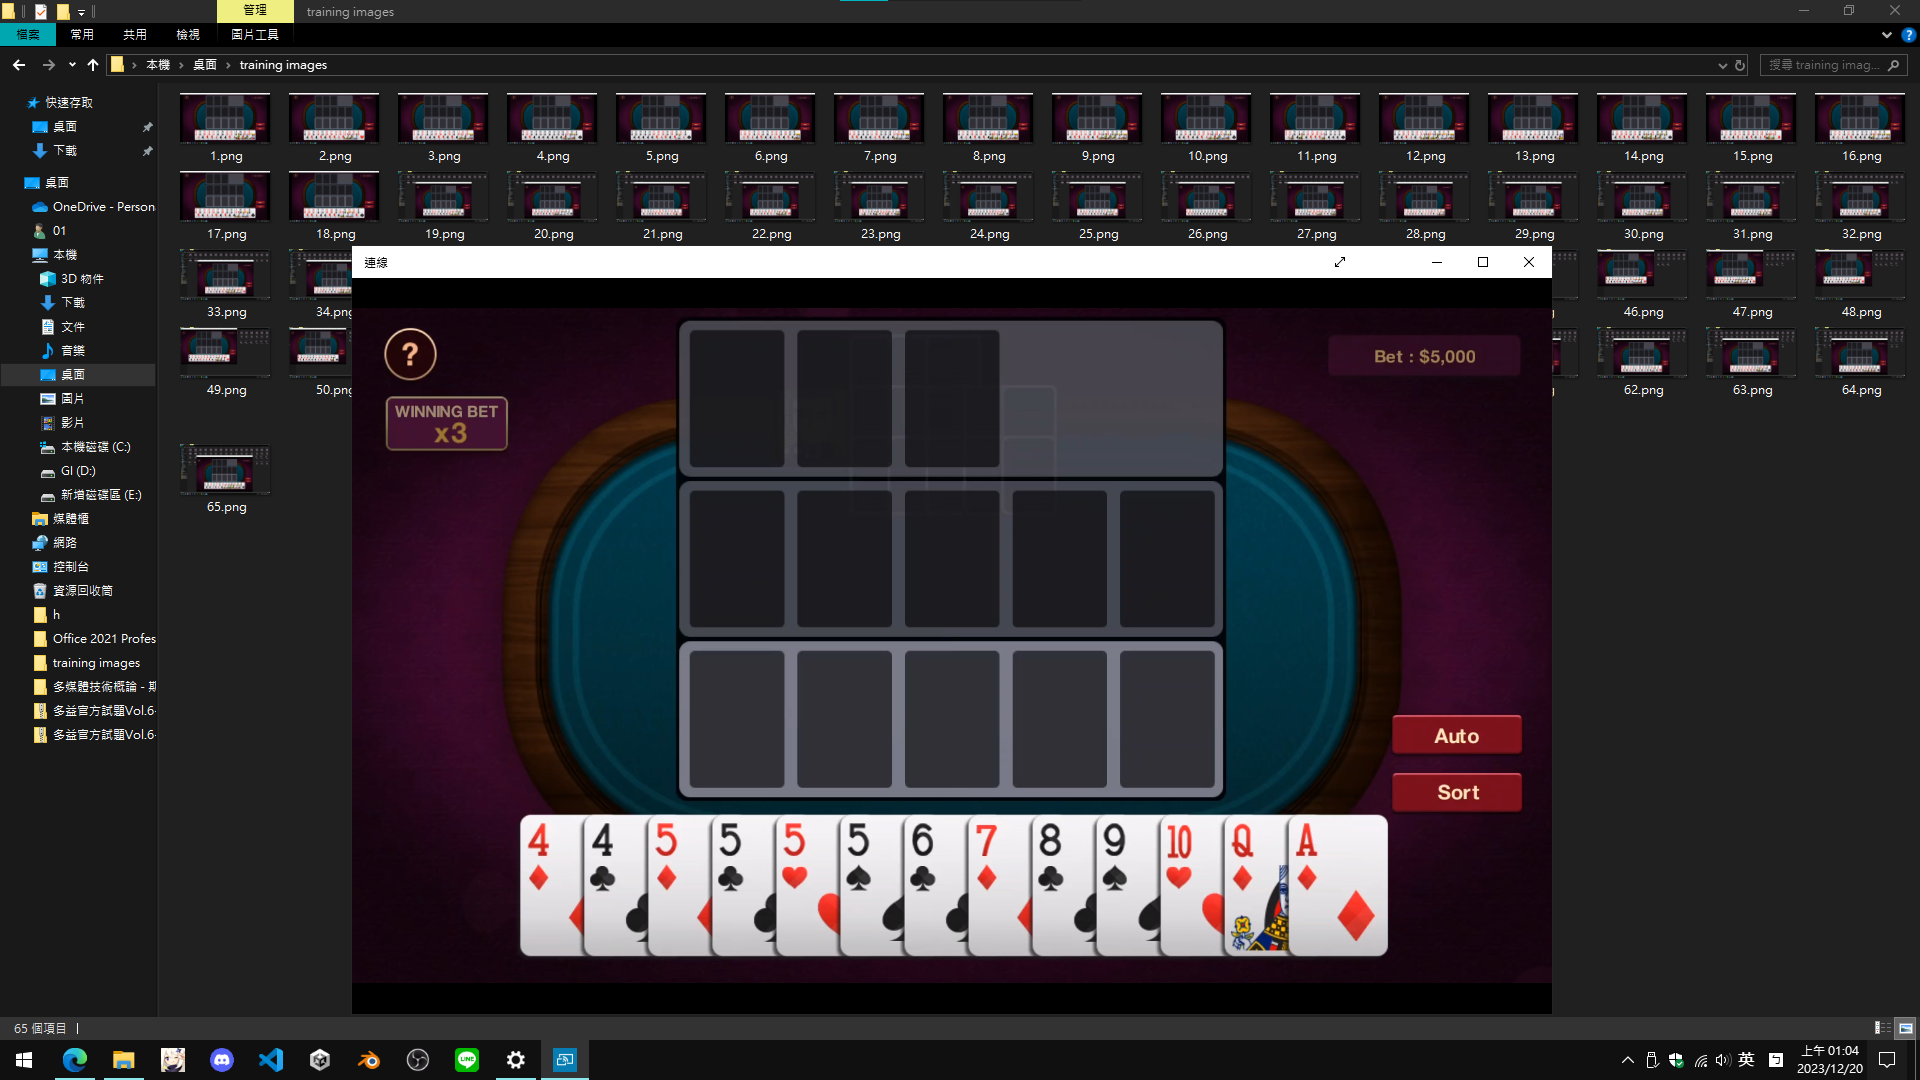10H: (1166, 820, 1193, 893)
4C: (589, 822, 618, 895)
4D: (525, 822, 551, 893)
5C: (715, 819, 746, 897)
5D: (653, 822, 679, 895)
5H: (778, 819, 810, 890)
5S: (844, 818, 873, 891)
6C: (909, 819, 938, 893)
7D: (973, 823, 1000, 895)
8C: (1036, 820, 1067, 897)
9S: (1100, 822, 1129, 894)
AD: (1294, 822, 1321, 895)
QD: (1228, 818, 1257, 898)
